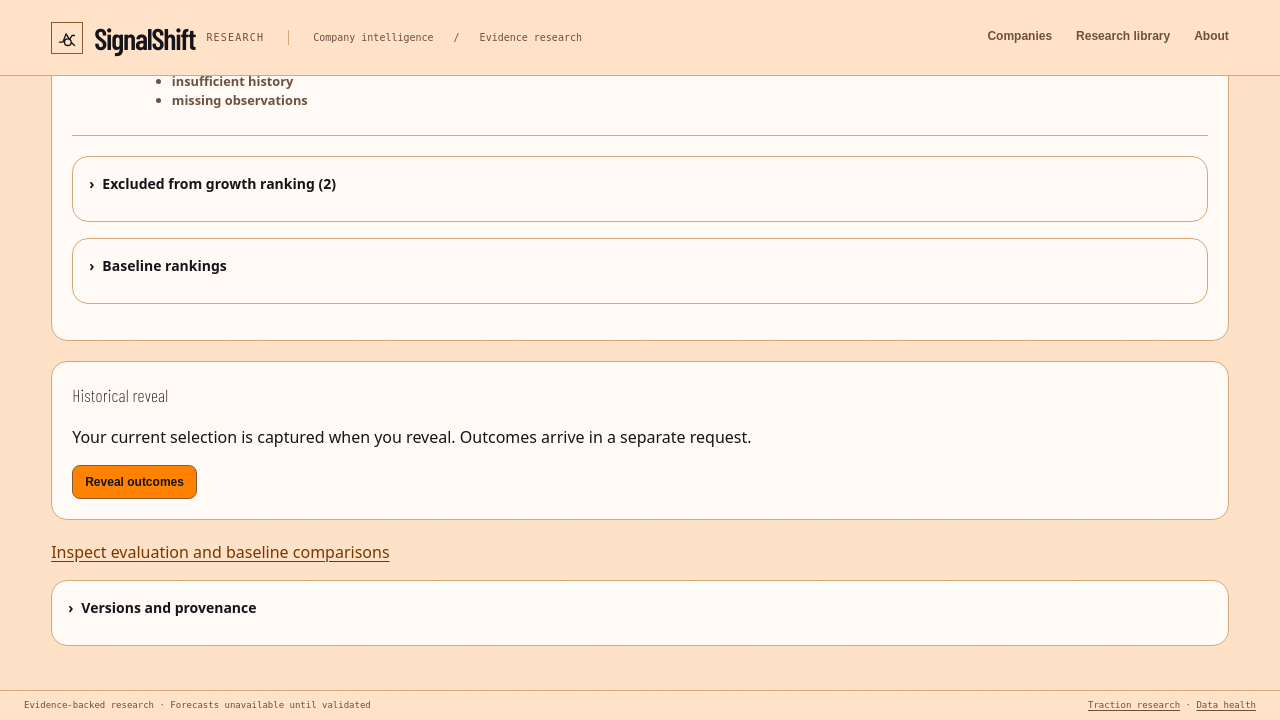
Test: keeps outcomes absent until reveal, freezes earlier scores and marks edits informed
The width and height of the screenshot is (1280, 720).
(page scrolled)
Click the button "Reveal outcomes": (135, 482) [72, 464, 197, 498]
(page scrolled)
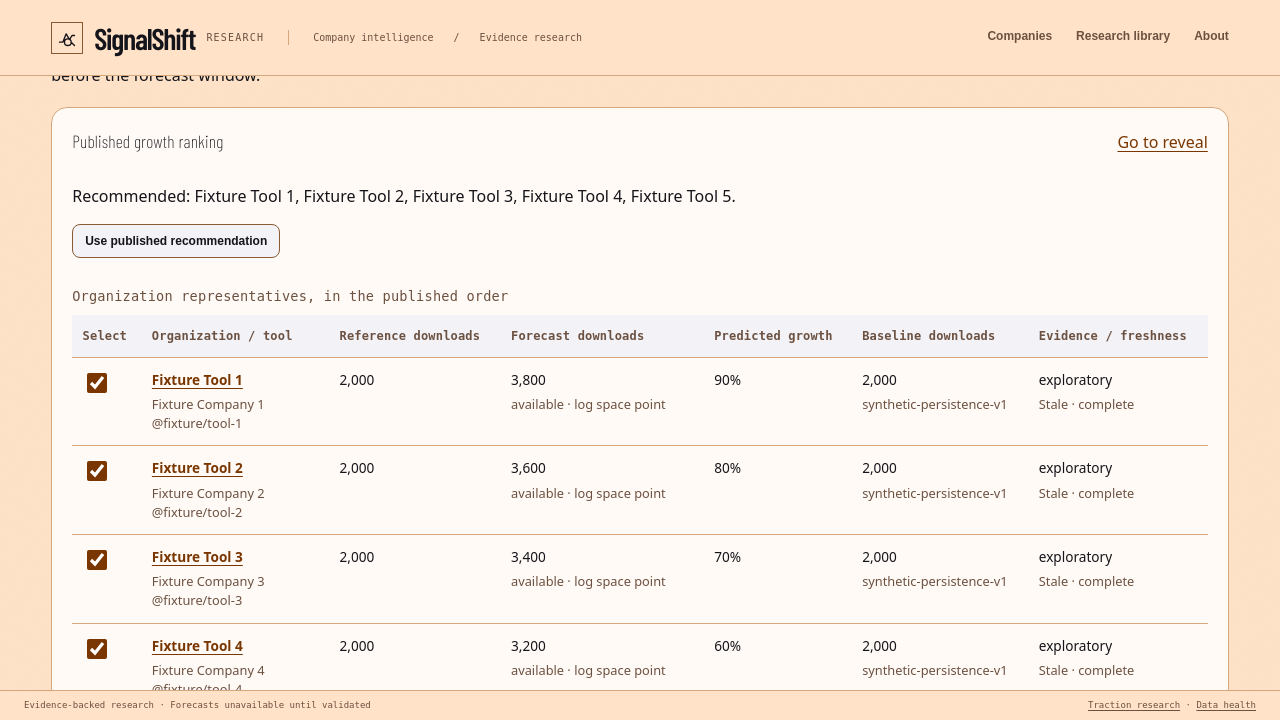
Click the checkbox named "Select Fixture Company 1": (97, 383) [87, 373, 107, 393]
(page scrolled)
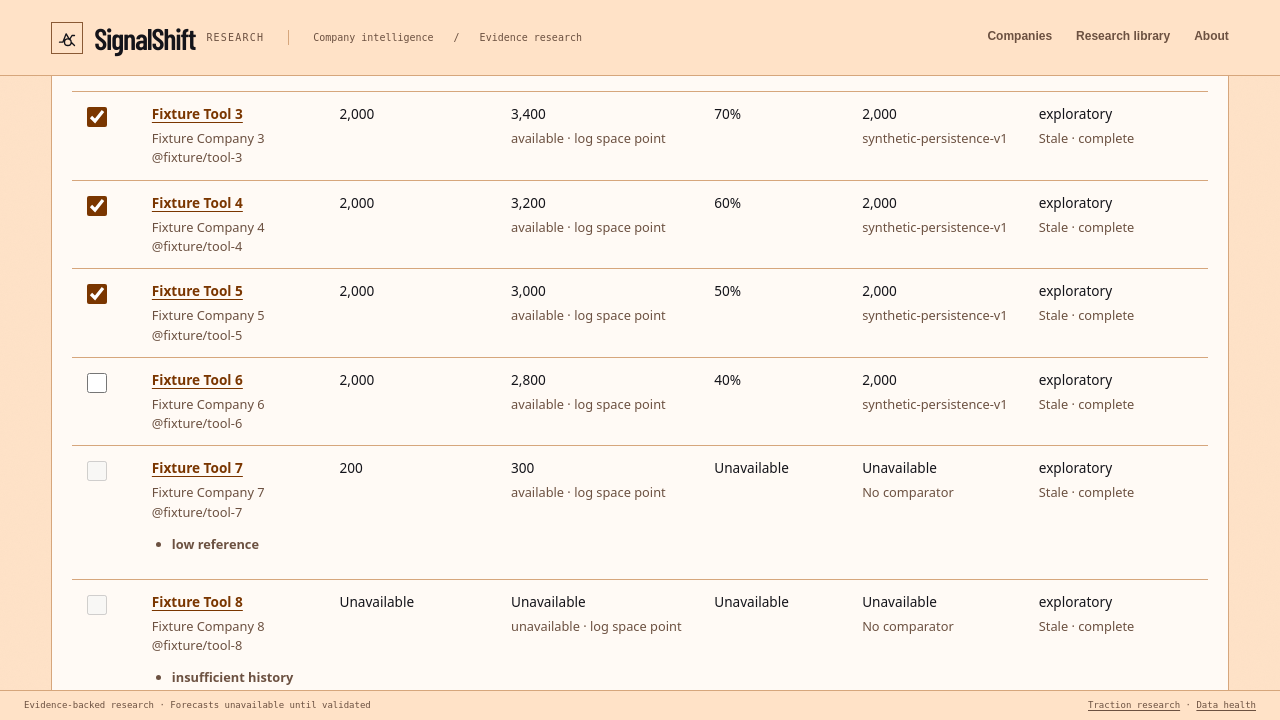
Click the checkbox named "Select Fixture Company 6": (97, 383) [87, 373, 107, 393]
(page scrolled)
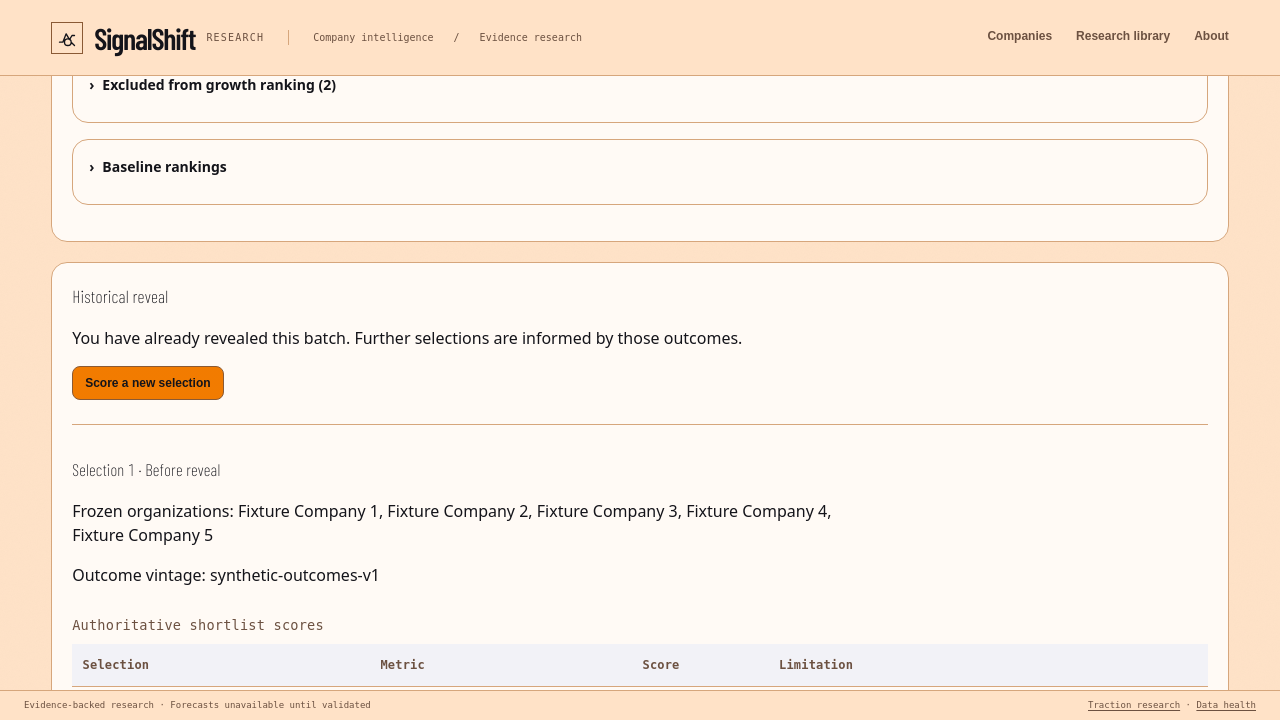
Click the button "Score a new selection": (148, 382) [72, 366, 224, 400]
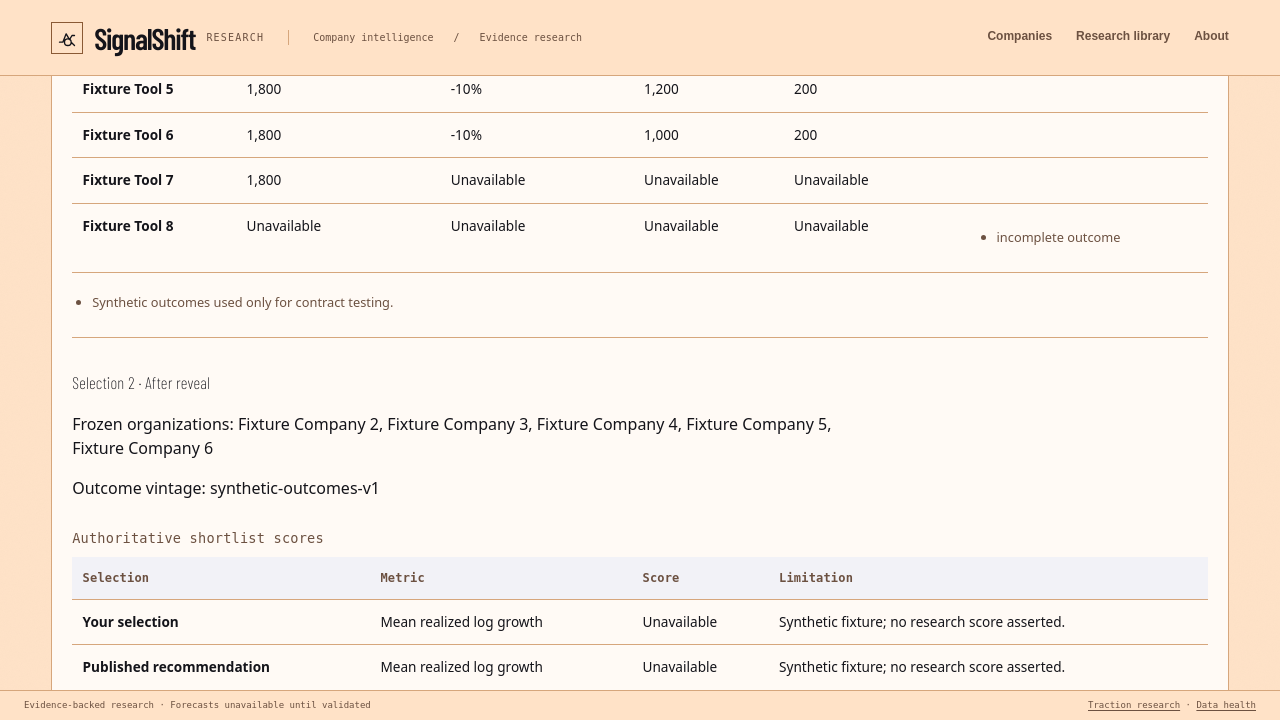
Check: the text "Frozen organizations" shows "Fixture Company 6", box [72, 413, 832, 459]
Check: the heading shows "After reveal", box [145, 372, 210, 392]
